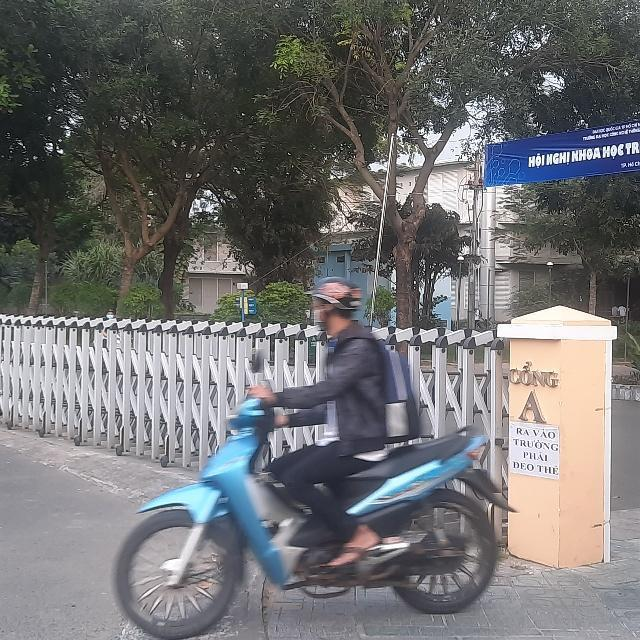Helmet: (308, 278, 364, 330)
